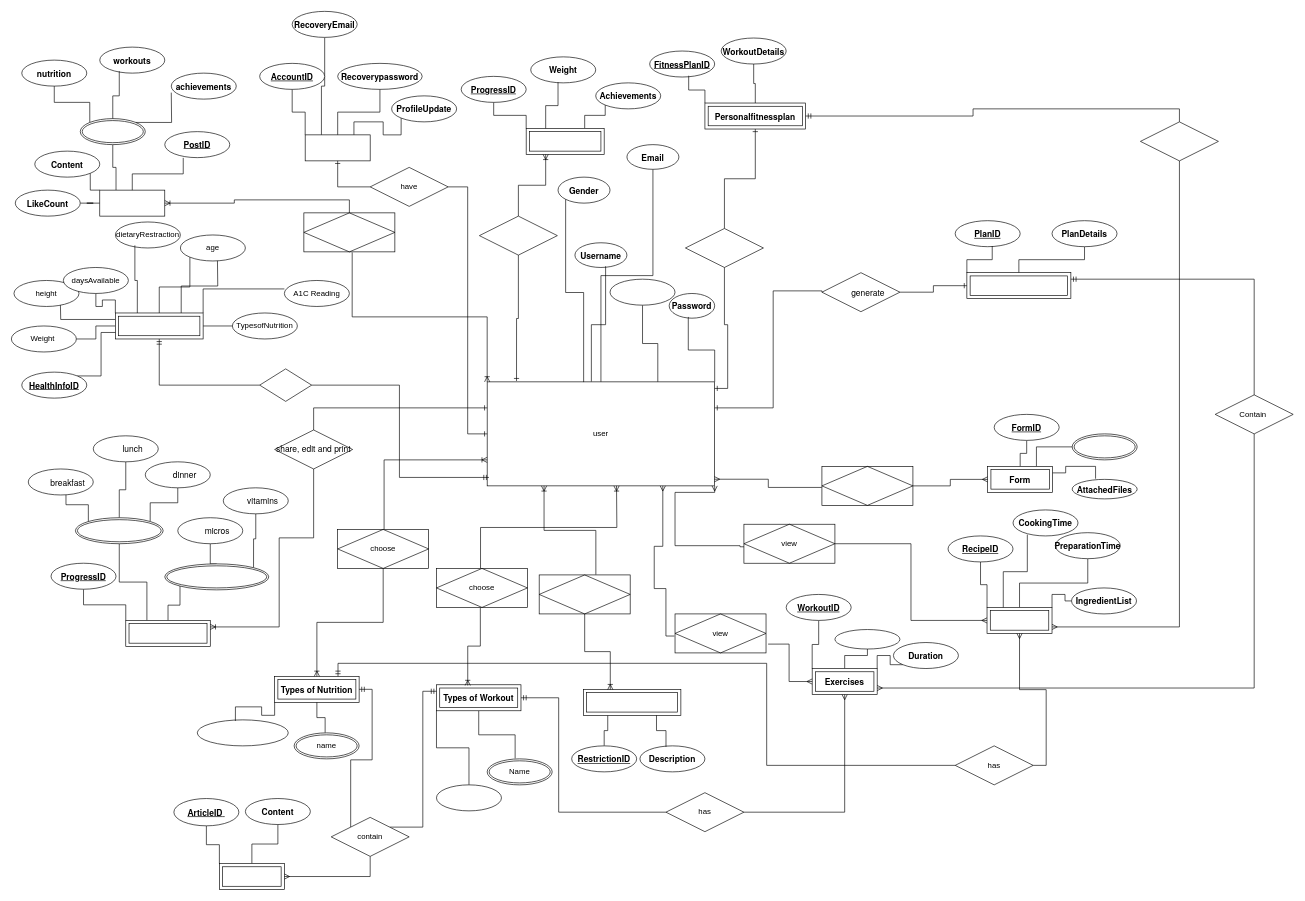
Some shapes in this 1305 by 901 pixel diagram are drawn without their labels. The box of each missing label's shape, as (x1, y1, x2, y2) in pixels:
Account: (305, 134, 370, 161)
Article: (219, 863, 284, 890)
Category: (80, 118, 145, 145)
Dietary Restrictions: (583, 689, 681, 715)
Fillout: (259, 368, 312, 401)
fitness progress: (526, 128, 604, 154)
FoodIntakeDetails: (75, 517, 163, 544)
FormType: (1072, 433, 1137, 460)
generated: (685, 228, 763, 267)
Health Information: (115, 312, 203, 339)
LikeandView: (303, 212, 395, 252)
MicronutrientsDetails: (164, 563, 269, 590)
Nutrition progress: (125, 620, 210, 646)
NutritionTypeID (PK): (197, 719, 288, 746)
personalNutritionPlan: (966, 272, 1071, 299)
Posts: (99, 189, 165, 216)
Recipe: (986, 607, 1052, 633)
Relationship: (1140, 121, 1218, 161)
shareeditand print: (479, 215, 557, 255)
submit: (821, 466, 913, 505)
UserID: (609, 279, 675, 305)
WorkoutName: (834, 629, 900, 649)
WorkoutTypeID: (436, 784, 501, 811)
Write: (539, 574, 630, 614)
